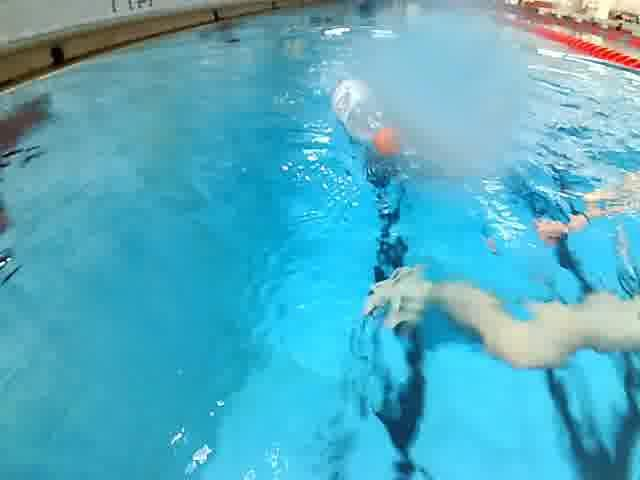Bottle: (324, 63, 405, 165)
